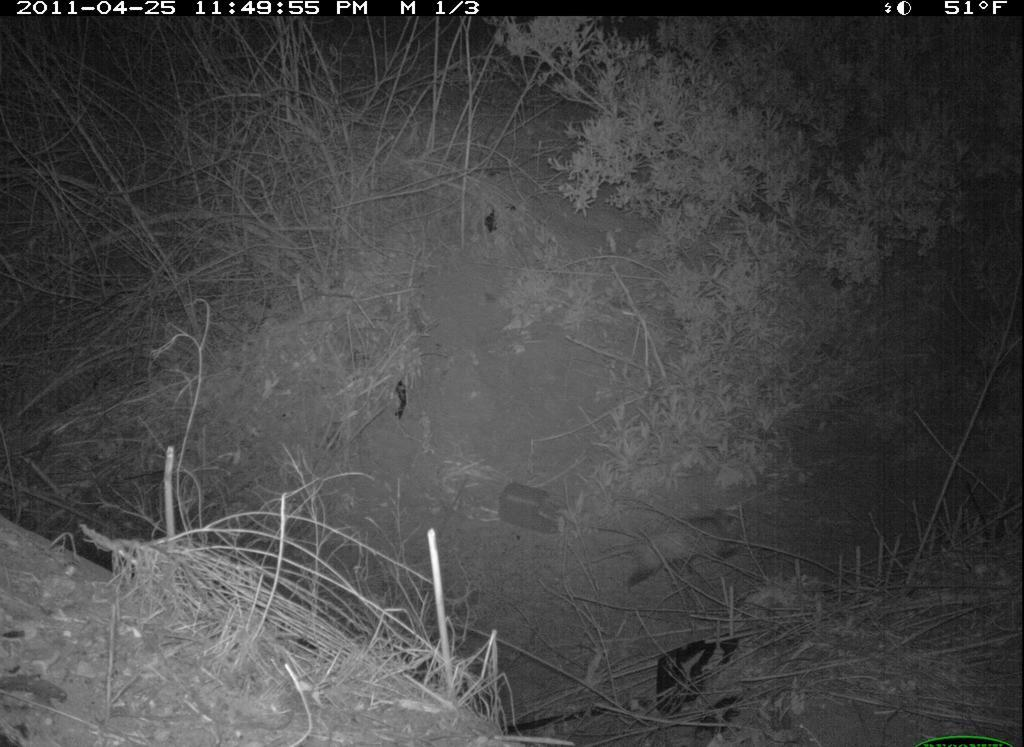opossum: (568, 501, 744, 597)
